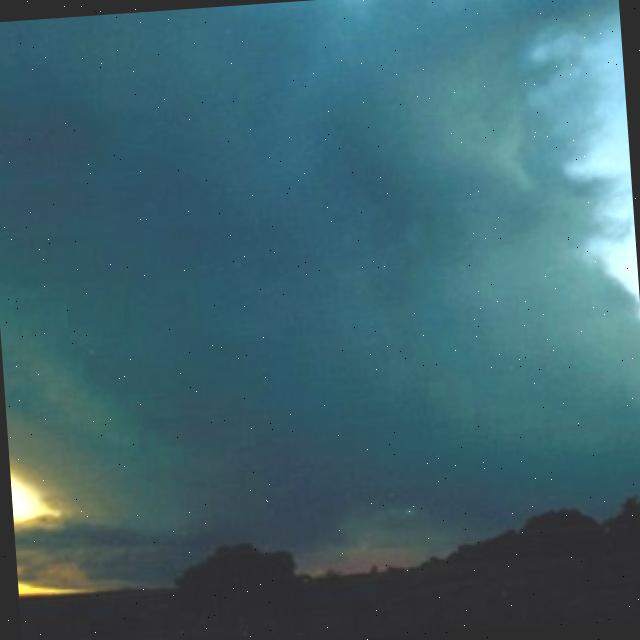Cb: (1, 1, 640, 442)
